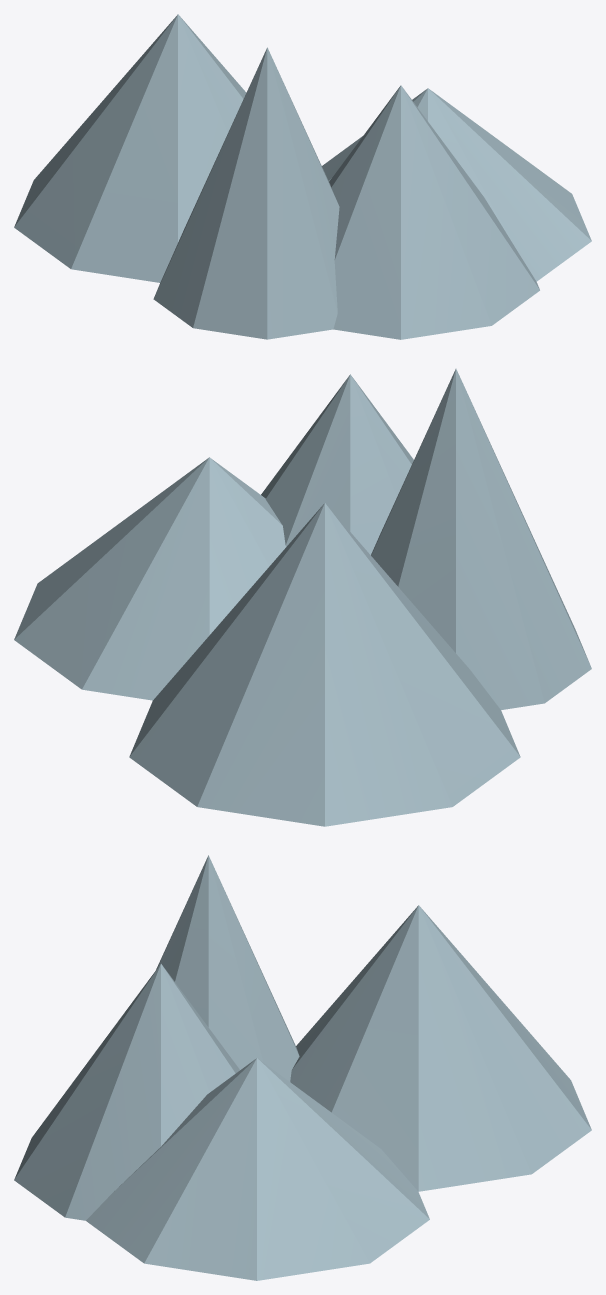
File: ice_spire-01.glb
The picture shows the model from 3 angles, top to bottom: view 1: azimuth 30°, elevation 25°; view 2: azimuth 150°, elevation 25°; view 3: azimuth 270°, elevation 25°; orthographic projection. The views are drawn at different scales.
Parts seen in each view (by area): view 1: world; view 2: world; view 3: world.
Part boxes in pixels (x1=…): world: x1=14, y1=14, x2=591, y2=339; world: x1=14, y1=368, x2=591, y2=826; world: x1=14, y1=855, x2=591, y2=1280.
Bounding box in the file's own units: 1.22 × 0.6273 × 1.28.
